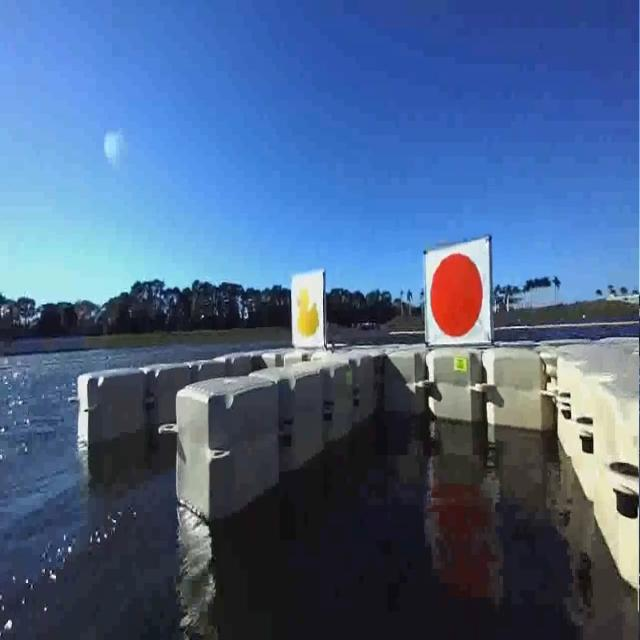red-dot: (424, 241, 488, 344)
yellow-duck: (290, 277, 326, 354)
